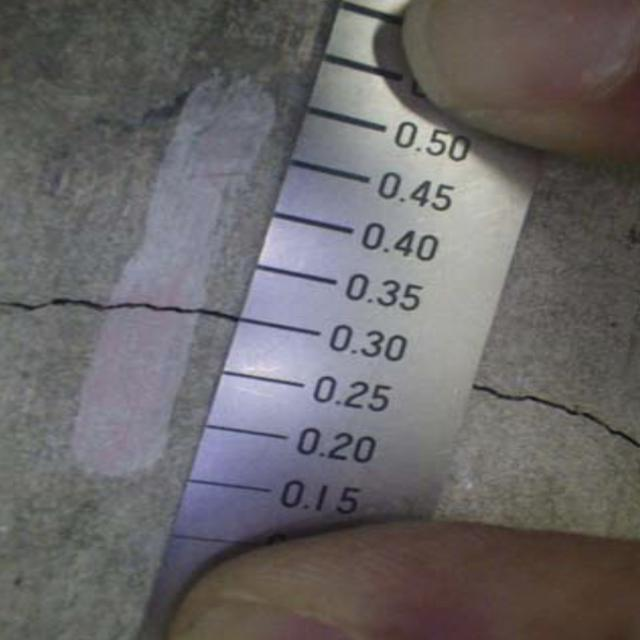crack: (1, 274, 246, 336), (478, 372, 640, 448)
